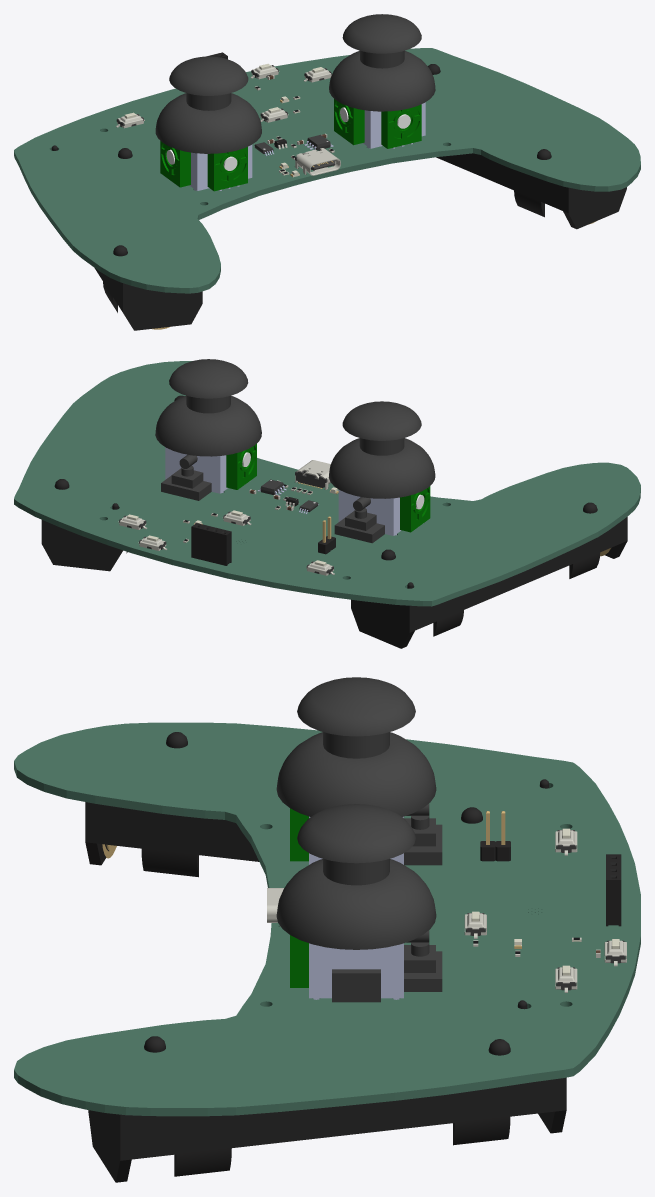
The model's file is JATAYU-Controller-PCB.glb.
The picture shows the model from 3 angles, top to bottom: view 1: azimuth 30°, elevation 25°; view 2: azimuth 150°, elevation 25°; view 3: azimuth 270°, elevation 25°; orthographic projection. The views are drawn at different scales.
Visible parts, largest first — view 1: =>[0:1:1:16], U1, U2, 18650Holder (×2), J1; view 2: =>[0:1:1:16], U1, U2, 18650Holder (×2), J2, J1, Battery1; view 3: =>[0:1:1:16], 18650Holder (×2), U2, U1, J2, Battery1.
Boxes of the visible parts, x1,y1,x2,y2 form: =>[0:1:1:16]: (14,48,640,293); U1: (155,56,261,191); U2: (329,14,435,148); 18650Holder (×2): (51,64,626,330); J1: (295,148,340,175); =>[0:1:1:16]: (14,361,640,606); U1: (328,401,435,543); U2: (155,359,261,500); 18650Holder (×2): (41,395,627,648); J2: (191,523,231,565); J1: (295,460,330,489); Battery1: (318,516,335,554); =>[0:1:1:16]: (14,722,640,1116); 18650Holder (×2): (85,732,566,1182); U2: (276,804,442,1002); U1: (276,677,442,865); J2: (606,854,621,926); Battery1: (480,811,510,861).
Bounding box in the file's own units: 0.152 × 0.0482 × 0.1045.
